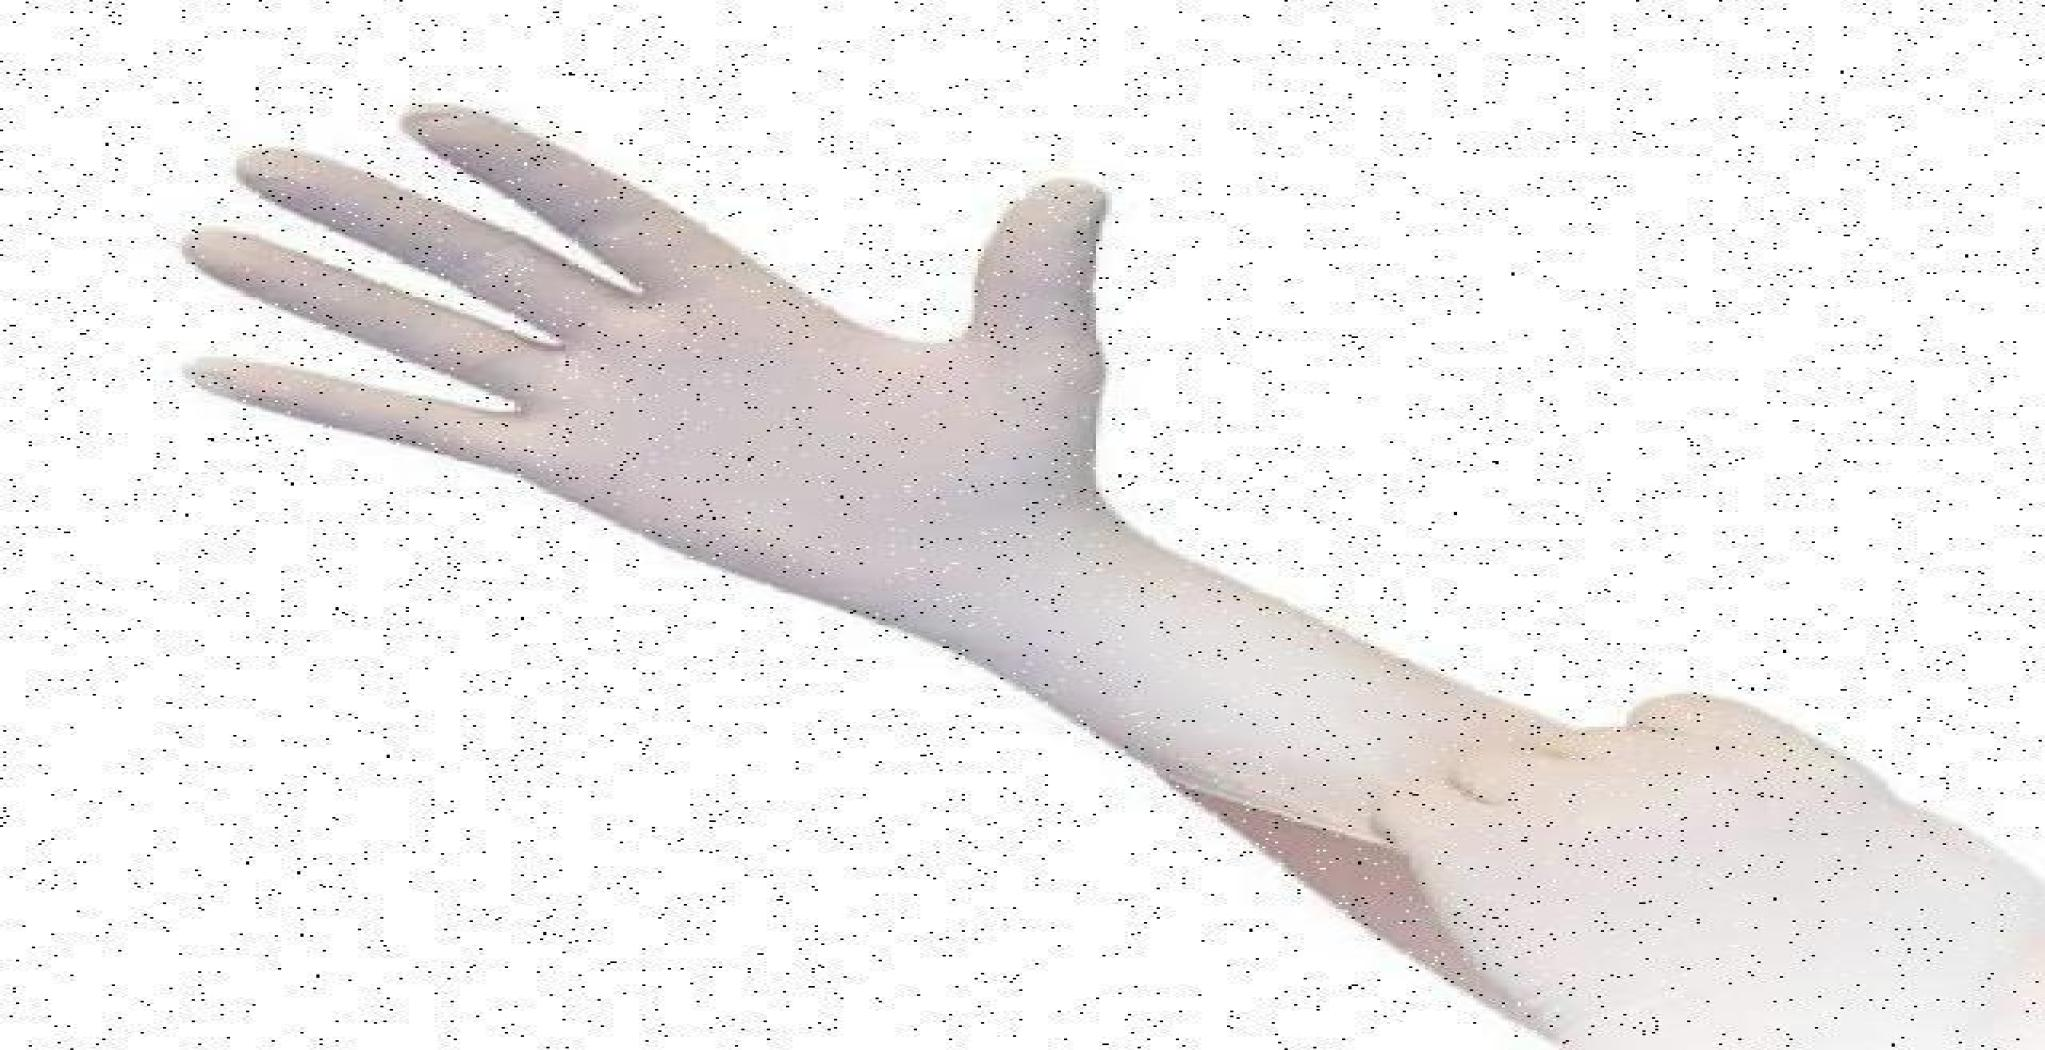gloved: (125, 121, 1515, 783), (1404, 680, 2029, 1037)
